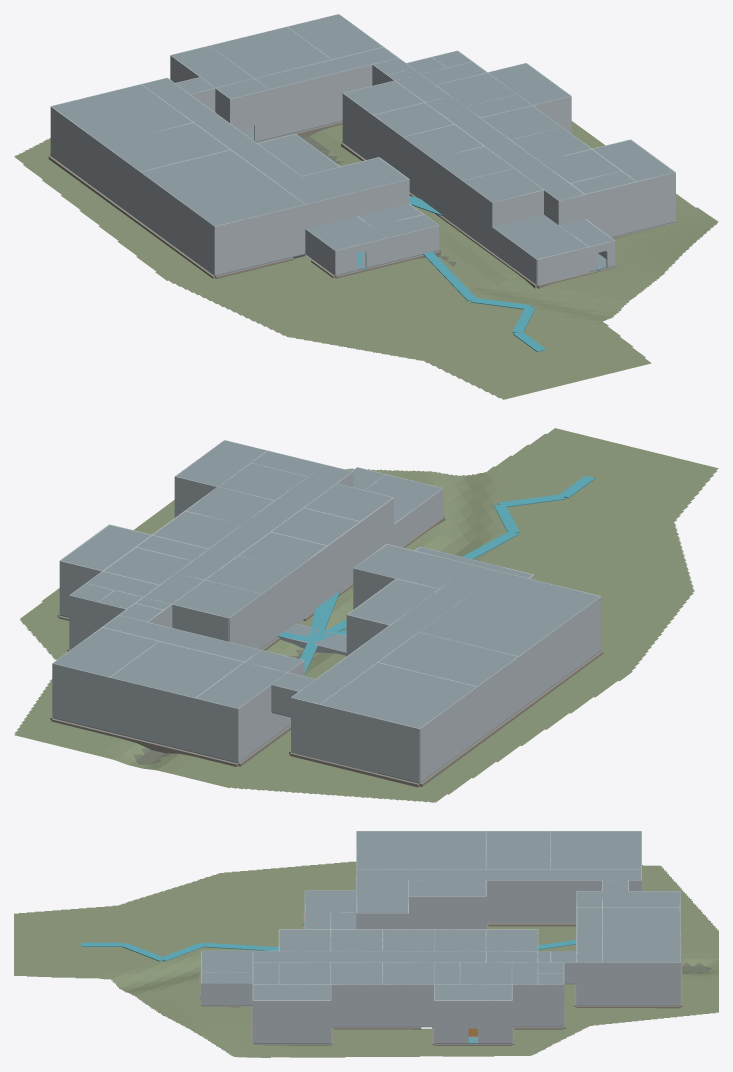
The model's file is open-circulation.glb.
3 renders of one model, top to bottom at view 1: azimuth 30°, elevation 25°; view 2: azimuth 150°, elevation 25°; view 3: azimuth 270°, elevation 25°, orthographic. The views are drawn at different scales.
Visible parts, largest first — view 1: Saved editor macroterrain COLLEGE, Ceiling cap lecture, Ceiling cap project, Wall lecture S, Ceiling cap upper-teaching, Wall lecture W, Ceiling cap upper-stacks, Ceiling cap upper-res-hall, Ceiling cap upper-seminar, Wall bridge-lobby S, Ceiling cap tutorial, Ceiling cap upper-reading (+52 smaller); view 2: Saved editor macroterrain COLLEGE, Ceiling cap lecture, Ceiling cap project, Ceiling cap upper-teaching, Wall lecture W, Ceiling cap upper-res-hall, Ceiling cap upper-stacks, Ceiling cap upper-seminar, Wall project N, Ceiling cap tutorial, Ceiling cap upper-reading, Wall upper-stacks N (+54 smaller); view 3: Saved editor macroterrain COLLEGE, Ceiling cap lecture, Ceiling cap project, Ceiling cap upper-teaching, Ceiling cap upper-res-hall, Ceiling cap upper-stacks, Ceiling cap upper-seminar, Flat route shell Wall upper-teaching E.001, Flat route shell Wall teaching-hall E, Ceiling cap upper-reading, Wall upper-reading E, Wall upper-north-stair E (+44 smaller).
Boxes of the visible parts, left/top/right/bottom form: Saved editor macroterrain COLLEGE: left=14, top=121, right=718, bottom=399; Ceiling cap lecture: left=141, top=150, right=304, bottom=225; Ceiling cap project: left=51, top=84, right=192, bottom=144; Wall lecture S: left=215, top=204, right=305, bottom=275; Ceiling cap upper-teaching: left=142, top=78, right=330, bottom=204; Wall lecture W: left=140, top=172, right=215, bottom=275; Ceiling cap upper-stacks: left=210, top=27, right=330, bottom=78; Ceiling cap upper-res-hall: left=425, top=96, right=583, bottom=200; Ceiling cap upper-seminar: left=103, top=123, right=229, bottom=171; Wall bridge-lobby S: left=269, top=62, right=380, bottom=113; Ceiling cap tutorial: left=302, top=157, right=407, bottom=197; Ceiling cap upper-reading: left=288, top=14, right=382, bottom=59; Saved editor macroterrain COLLEGE: left=14, top=428, right=718, bottom=802; Ceiling cap lecture: left=419, top=572, right=599, bottom=656; Ceiling cap project: left=320, top=663, right=476, bottom=728; Ceiling cap upper-teaching: left=292, top=565, right=500, bottom=703; Wall lecture W: left=519, top=596, right=601, bottom=709; Ceiling cap upper-res-hall: left=177, top=465, right=352, bottom=579; Ceiling cap upper-stacks: left=111, top=641, right=243, bottom=697; Ceiling cap upper-seminar: left=379, top=632, right=517, bottom=686; Wall project N: left=319, top=704, right=419, bottom=755; Ceiling cap tutorial: left=354, top=544, right=471, bottom=588; Ceiling cap upper-reading: left=53, top=627, right=158, bottom=676; Wall upper-stacks N: left=109, top=677, right=194, bottom=725; Saved editor macroterrain COLLEGE: left=14, top=861, right=718, bottom=1057; Ceiling cap lecture: left=356, top=831, right=485, bottom=869; Ceiling cap project: left=551, top=831, right=641, bottom=869; Ceiling cap upper-teaching: left=356, top=869, right=641, bottom=880; Ceiling cap upper-res-hall: left=253, top=951, right=485, bottom=962; Ceiling cap upper-stacks: left=602, top=908, right=680, bottom=940; Ceiling cap upper-seminar: left=486, top=831, right=550, bottom=869; Flat route shell Wall upper-teaching E.001: left=486, top=880, right=601, bottom=901; Flat route shell Wall teaching-hall E: left=486, top=901, right=576, bottom=922; Ceiling cap upper-reading: left=602, top=940, right=680, bottom=962; Wall upper-reading E: left=602, top=962, right=680, bottom=983; Wall upper-north-stair E: left=434, top=1000, right=511, bottom=1021.
Size of the model in its own units: 73 by 10.36 by 109.
